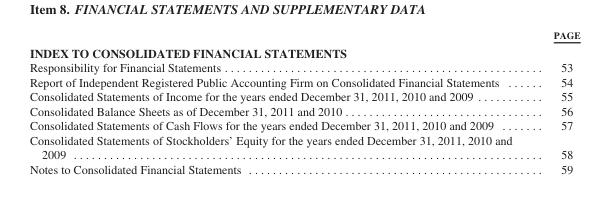table: (28, 28, 579, 175)
table column: (28, 28, 532, 175), (532, 28, 579, 175)
table column header: (28, 28, 579, 42)
table projected row header: (28, 42, 579, 60)
table row: (28, 132, 579, 161), (28, 42, 579, 60), (28, 88, 579, 103), (28, 117, 579, 132), (28, 28, 579, 42), (28, 60, 579, 74), (28, 74, 579, 88), (28, 103, 579, 117), (28, 161, 579, 175)
